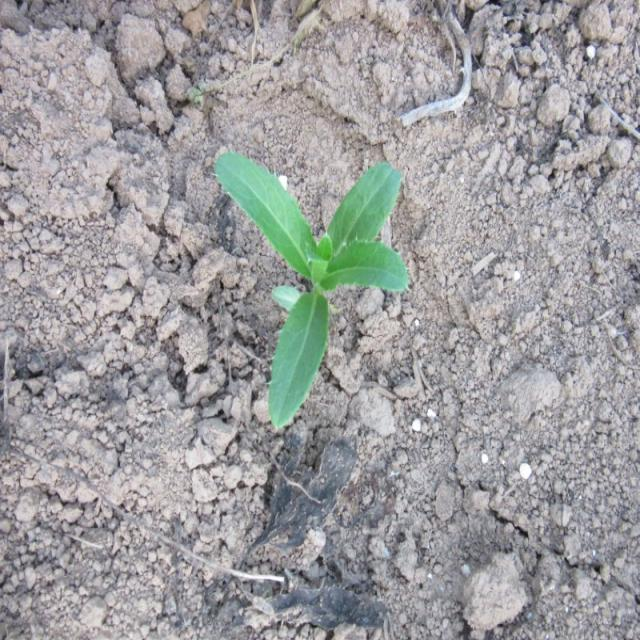cs: (214, 140, 416, 440)
